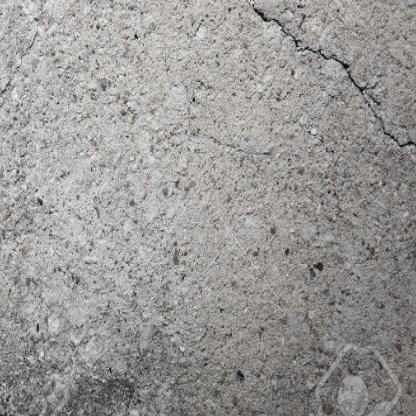Cracks: (223, 0, 416, 157), (0, 26, 43, 118), (0, 395, 38, 416)
